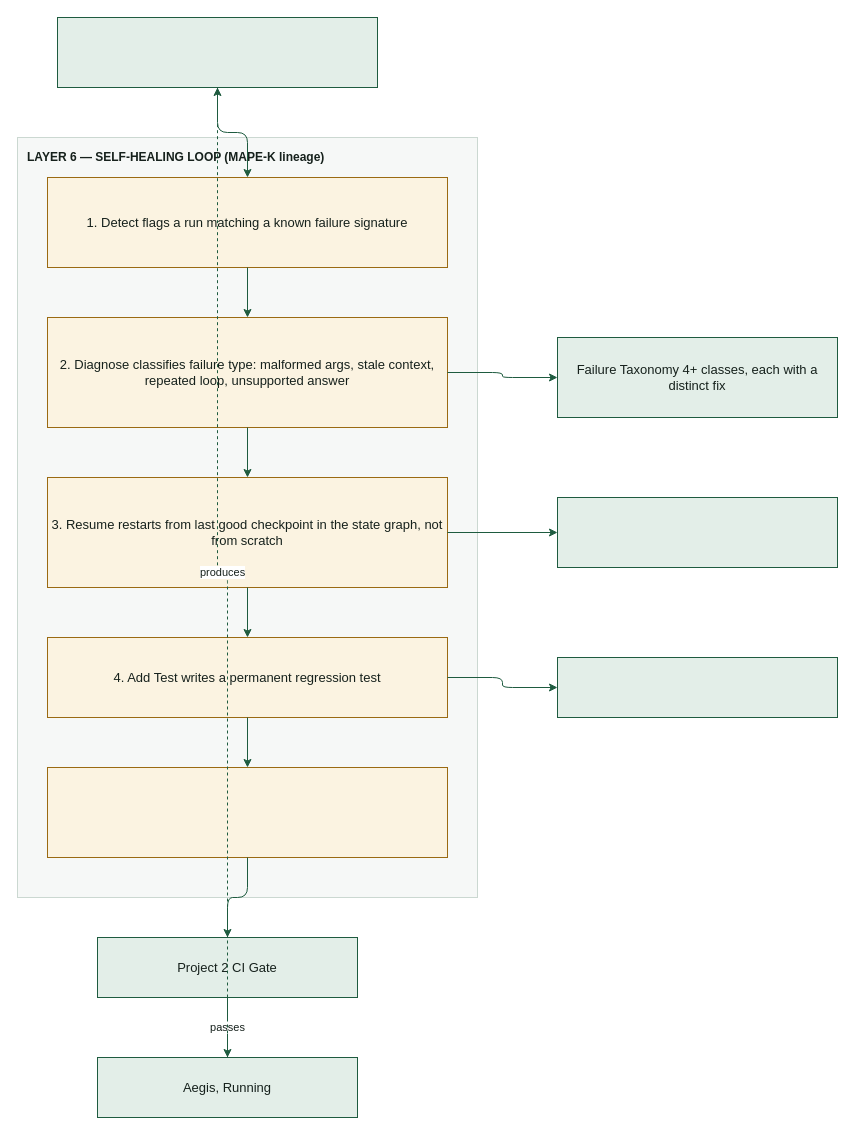
This 855x1135 diagram has some shape labels left out. The centre of each missing label's shape, as x and y in pixels:
5. Redeploy ships the fix through the normal CI gate: pixel 247 812
Layer 3 Trace Stream (from the running Aegis): pixel 217 52
Project 2 Regression Suite: pixel 697 687
Project 5 State Graph (checkpoints): pixel 697 532
